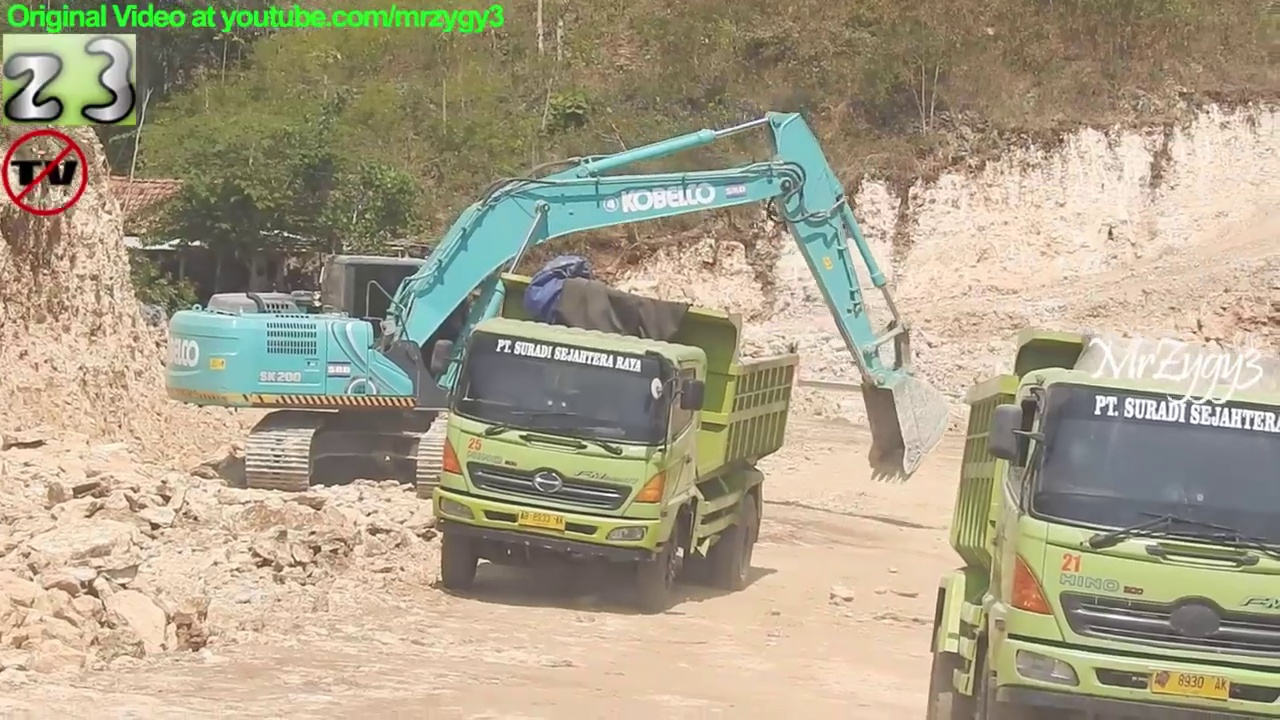excavator: (160, 103, 961, 510)
truck: (921, 320, 1280, 720), (424, 264, 806, 619)
